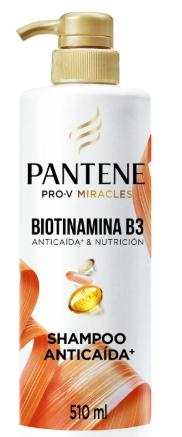brand: (23, 156, 151, 189)
net_weight: (67, 400, 114, 423)
product_name: (37, 327, 144, 365)
